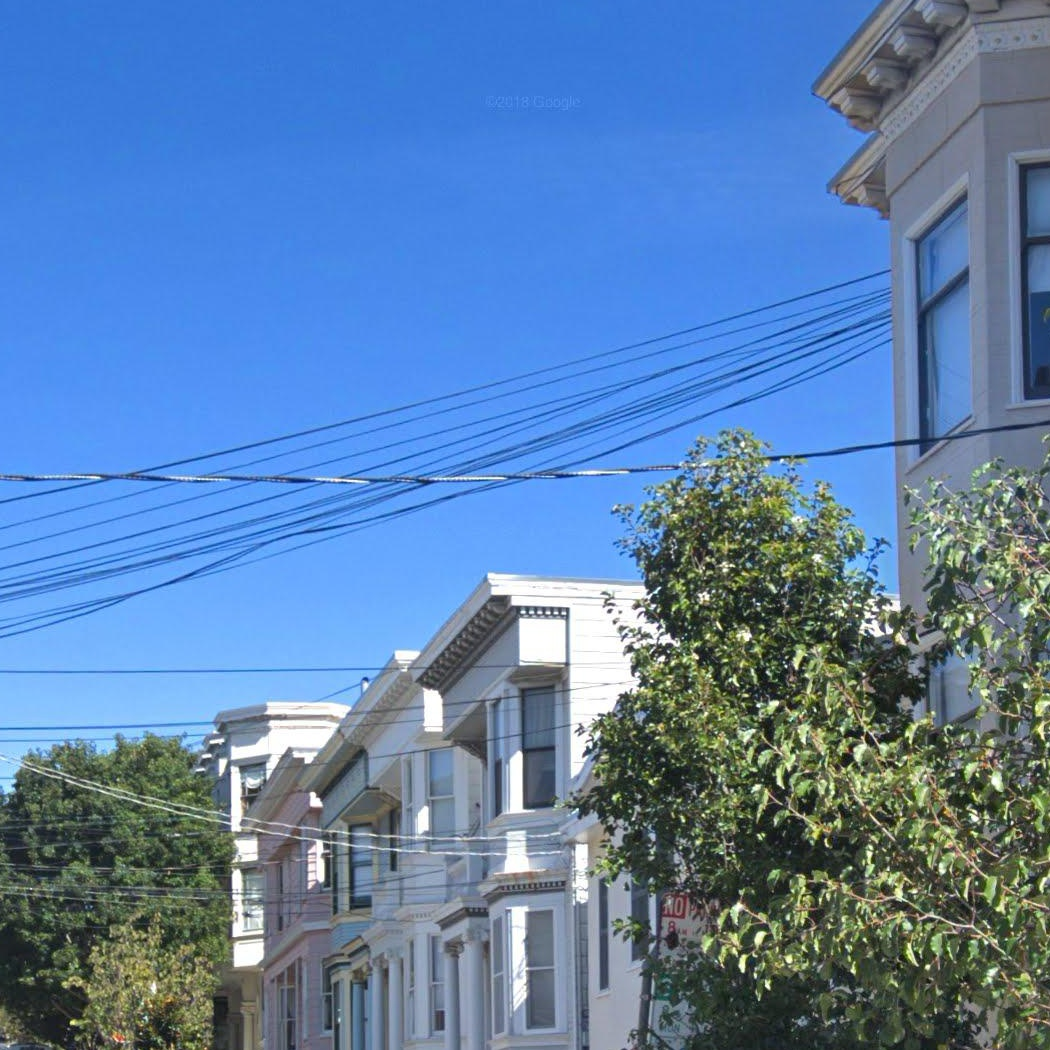No Parking: (657, 890, 720, 972)
